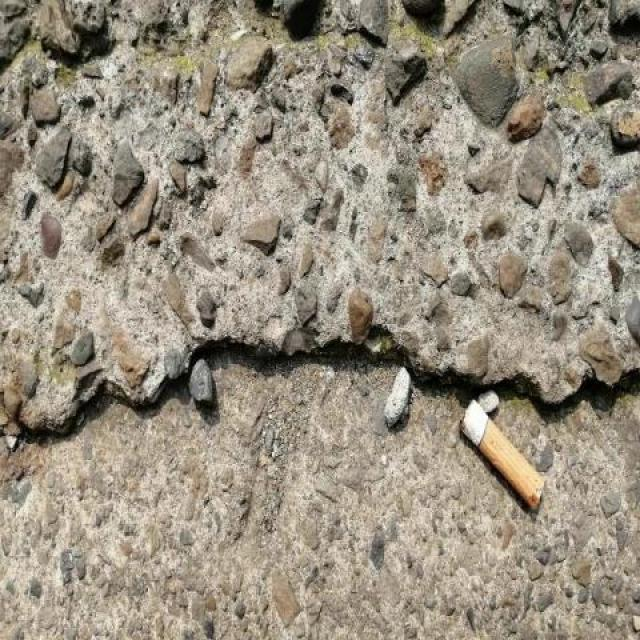non-organic waste: (456, 395, 548, 516)
